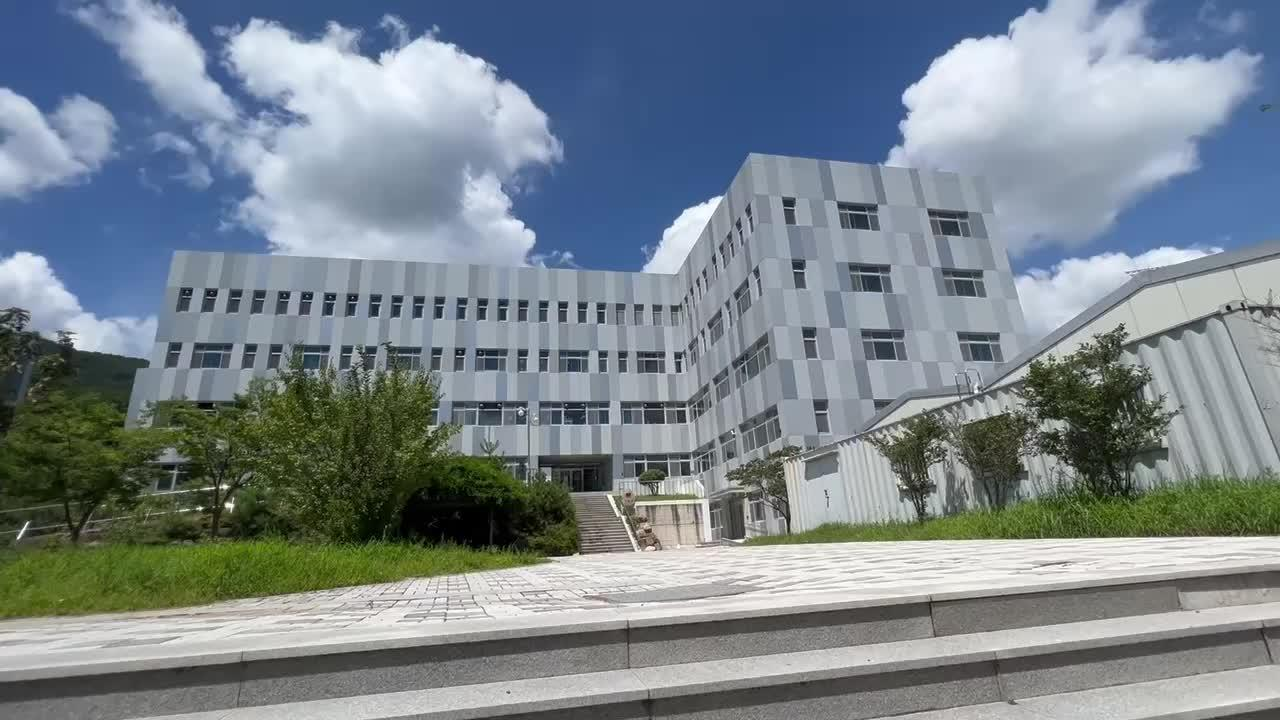building: (184, 160, 1023, 410)
